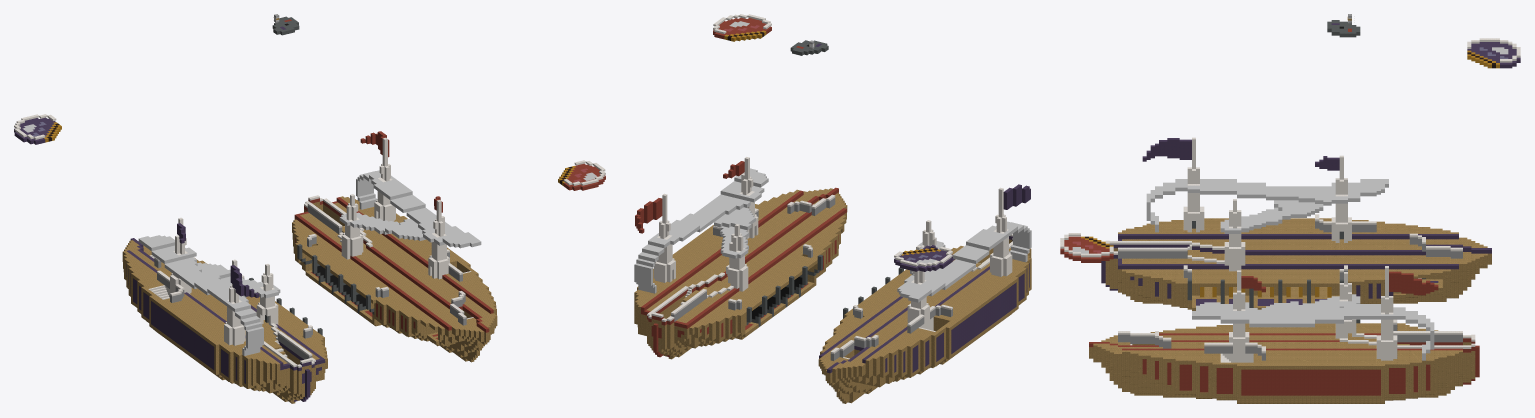
Rendered from minecraft.obj.
3 views of the same model, side by side, from view 1: azimuth 30°, elevation 25°; view 2: azimuth 150°, elevation 25°; view 3: azimuth 270°, elevation 25° (orthographic). The views are drawn at different scales.
Bounding box in the file's own units: 1250 × 885 × 1120.
